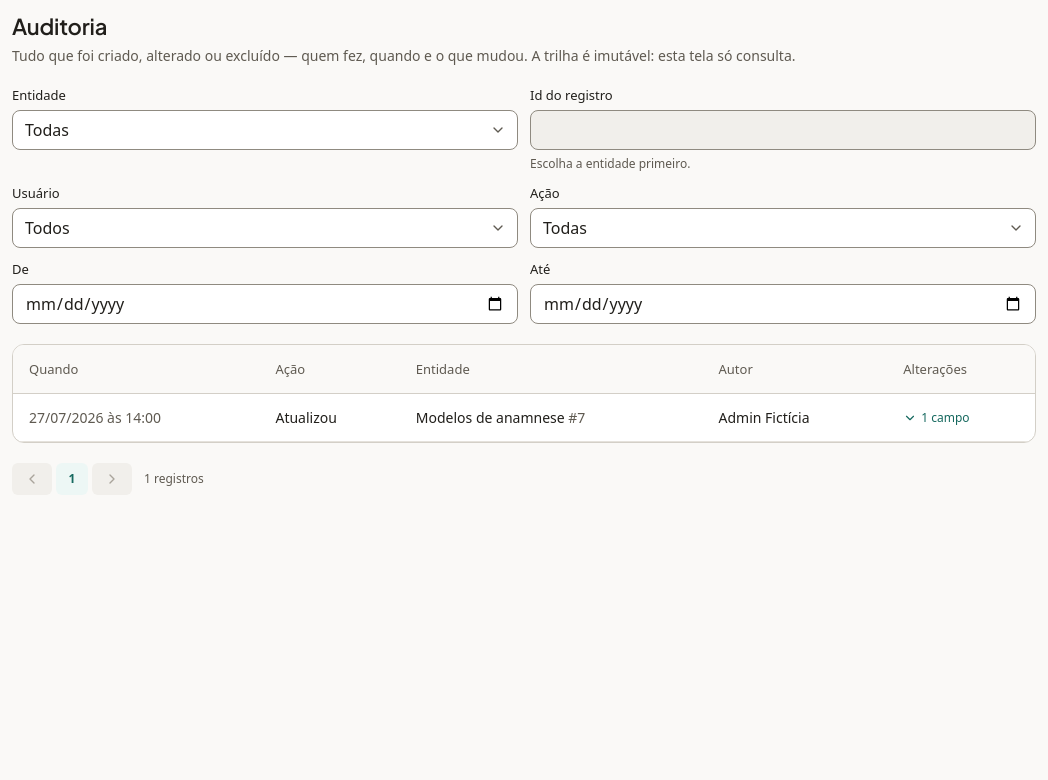
it: deve render valor estruturado como JSON legível, nunca object Object
Click the button "1 campo" at (936, 418), box [903, 410, 970, 426]
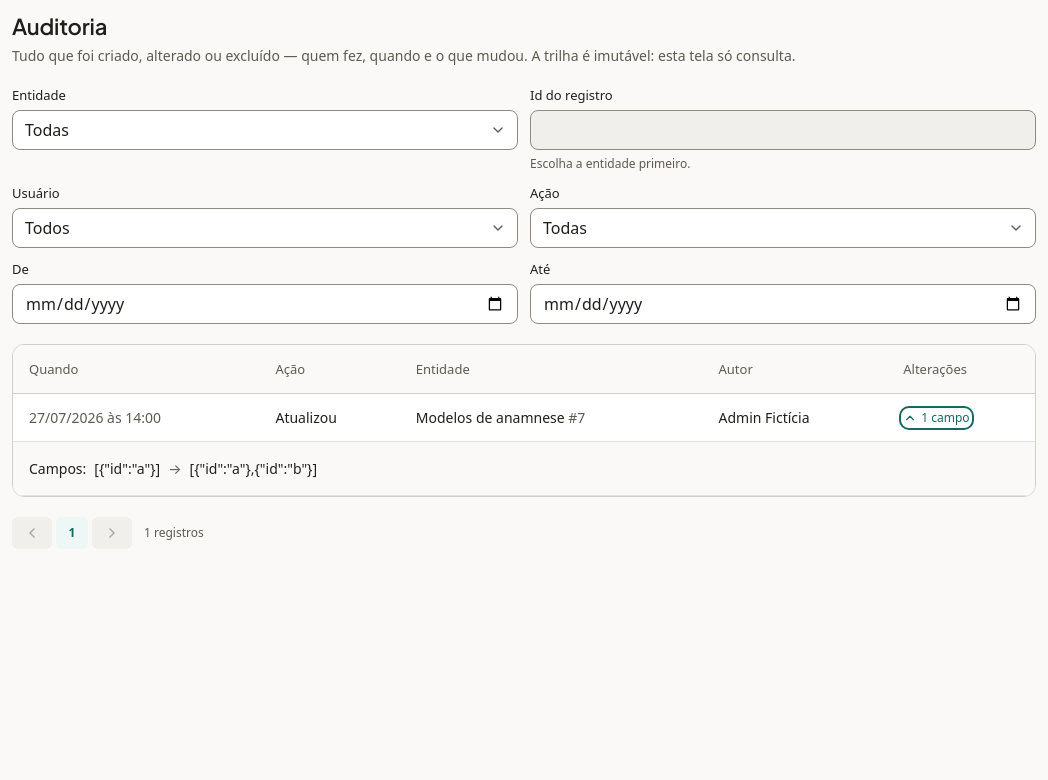
Now the text "[{\"id\":\"a\"}]" is shown, box [94, 458, 160, 479]
Now the text "[{\"id\":\"a\"},{\"id\":\"b\"}]" is shown, box [190, 458, 317, 479]
